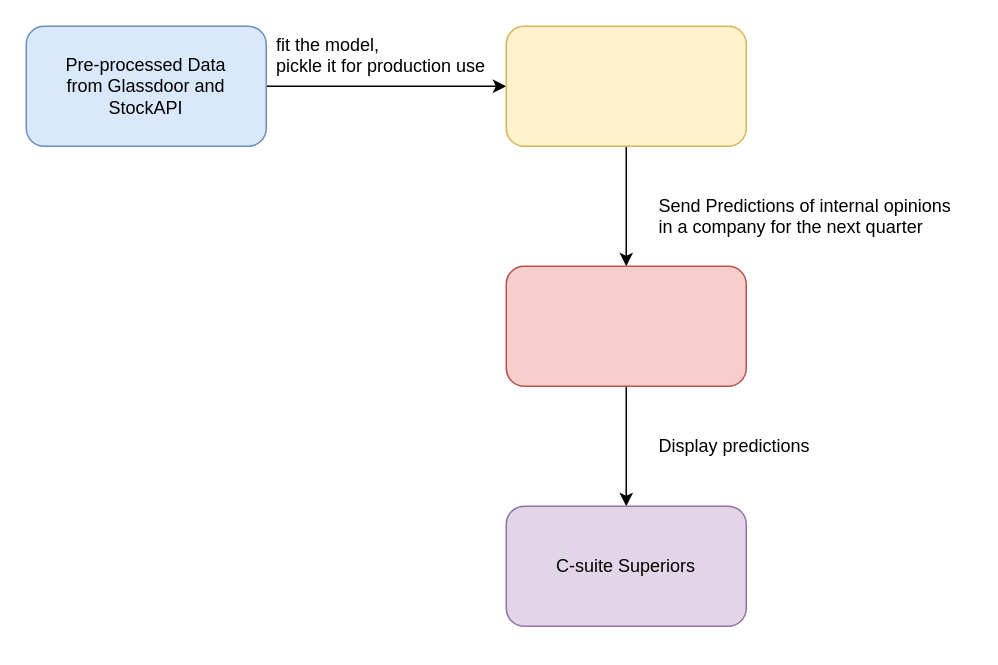
The diagram is 998 pixels wide and 665 high, and some of its shapes have lost their labels. The shapes that lost their labels are listed below. From the top down, each one's centre as x and y in pixels, then its label:
At pixel 625 85: "Pickled Time Series Model".
At pixel 625 325: "WebApp".
